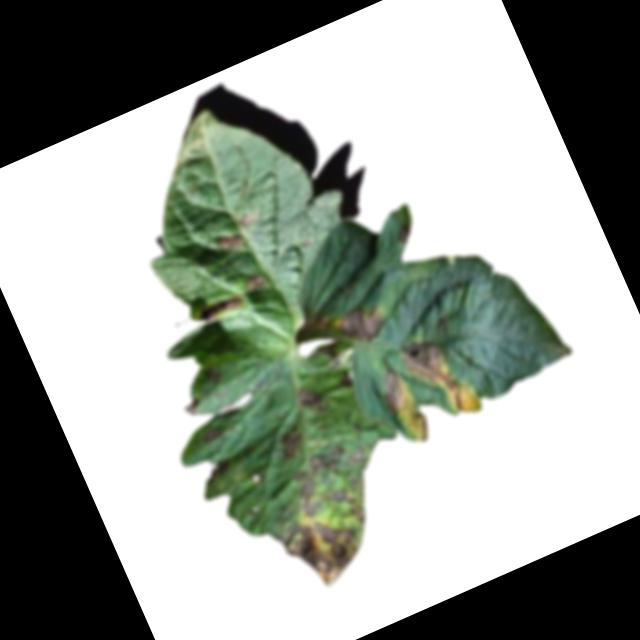Early_blight: (394, 322, 481, 427), (274, 505, 370, 598), (328, 299, 388, 351), (370, 363, 414, 414), (287, 467, 326, 520), (304, 442, 350, 484), (327, 482, 367, 529), (268, 420, 310, 463), (195, 288, 245, 324), (290, 381, 329, 418), (401, 405, 434, 445), (191, 422, 229, 452), (212, 226, 246, 255), (343, 441, 370, 472), (243, 265, 271, 293), (234, 207, 259, 229)
